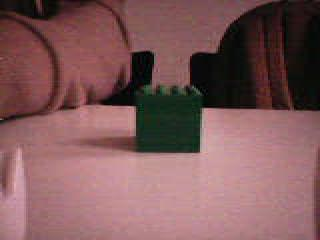legocube: (132, 84, 204, 156)
